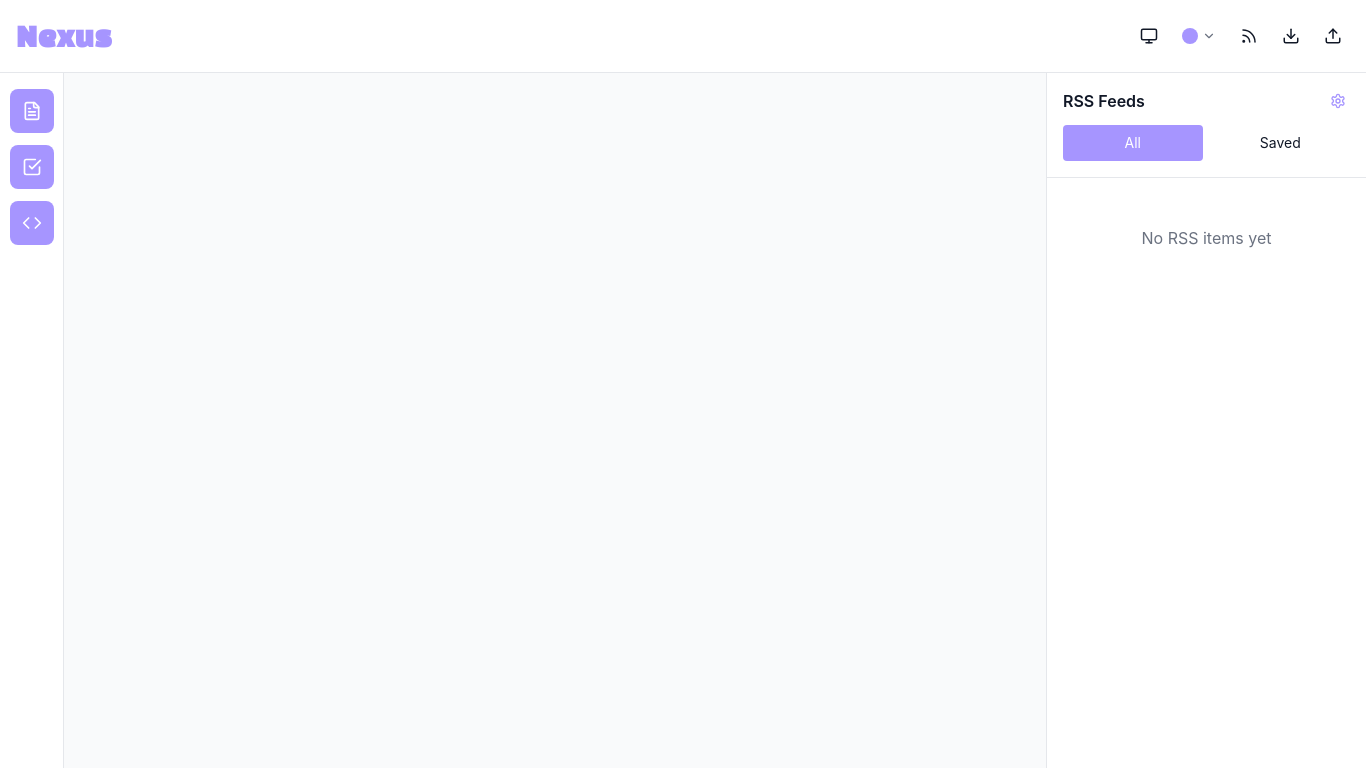
App › should open task modal from sidebar
Expected: the heading "Nexus" is shown, [16,12,112,60]
Click the button titled "New Task": click(32, 167) [10,145,54,189]
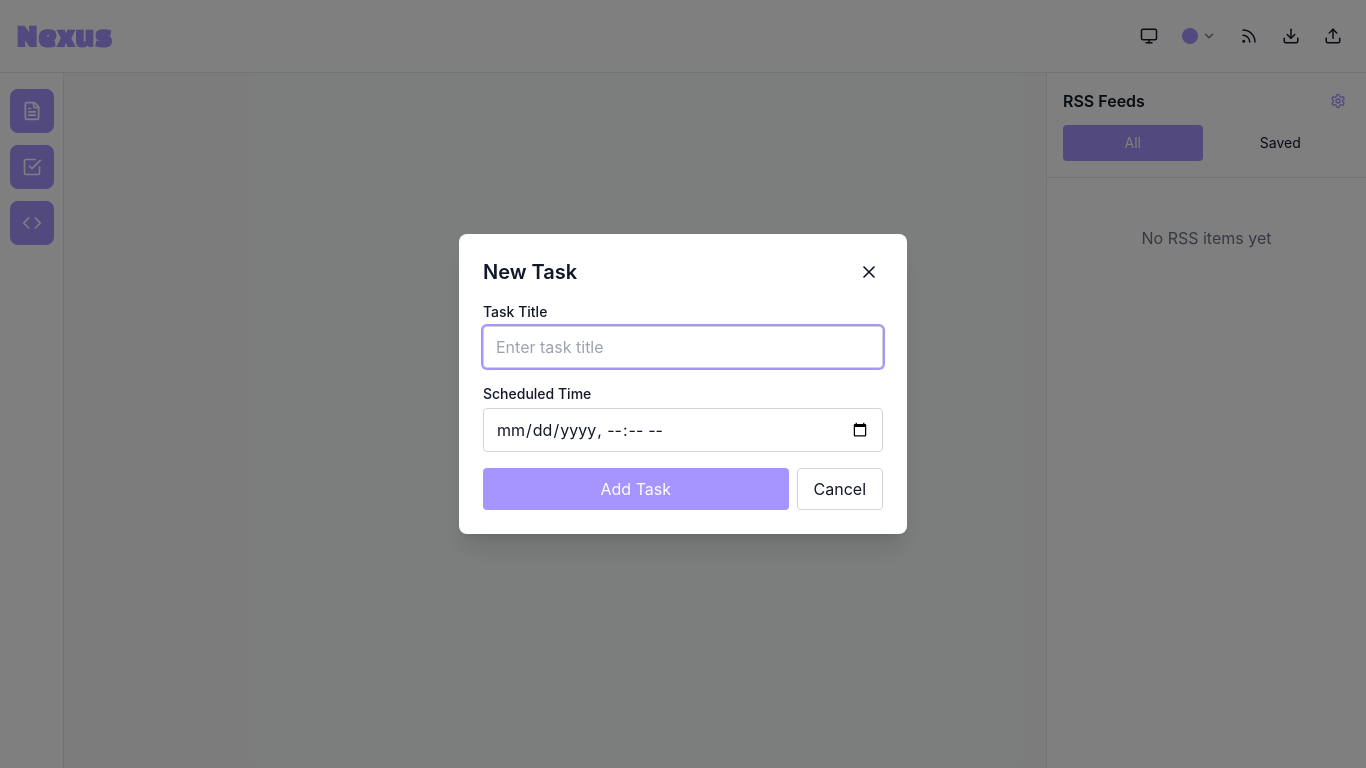
Now the heading "New Task" is shown, box [483,258,577,286]
